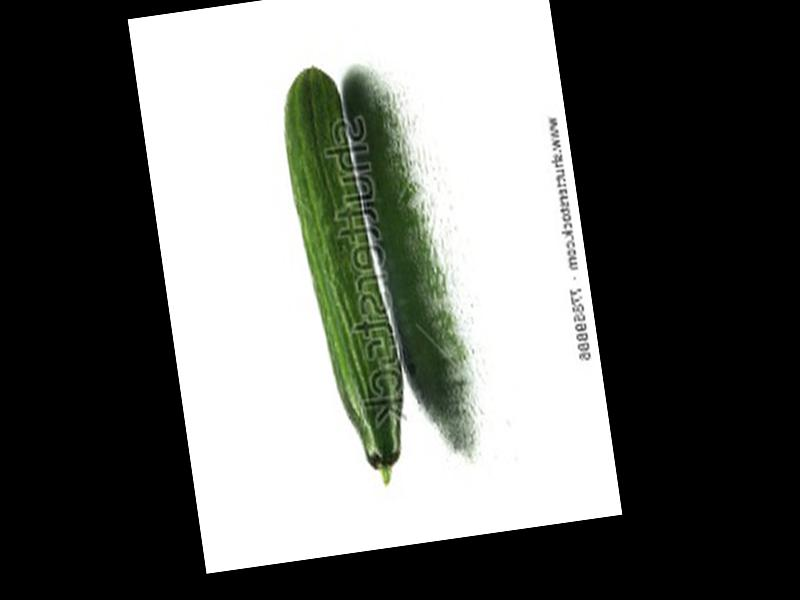Cucumber: (274, 64, 417, 491)
